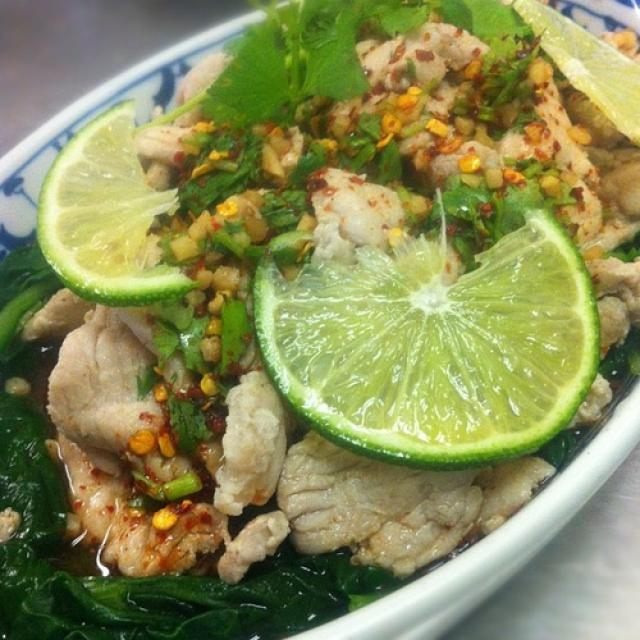猪肉菜式: (19, 15, 624, 608)
